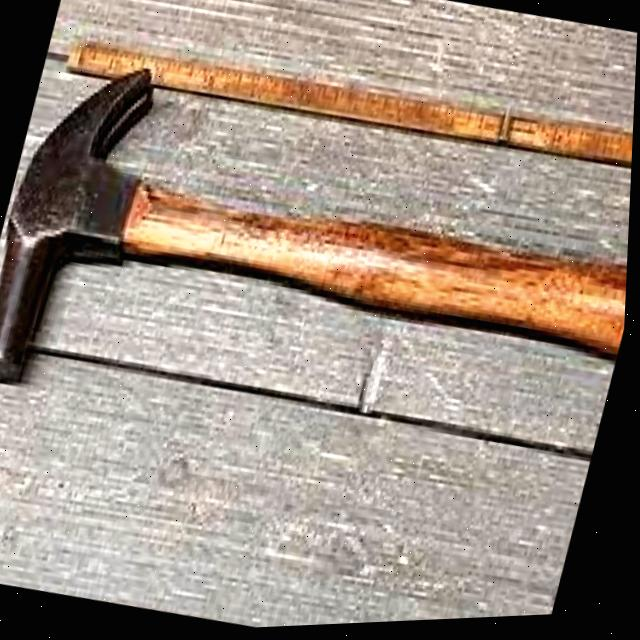hammer: (0, 27, 638, 513)
